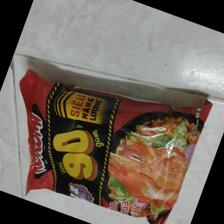Kokomi: (17, 69, 213, 224)
